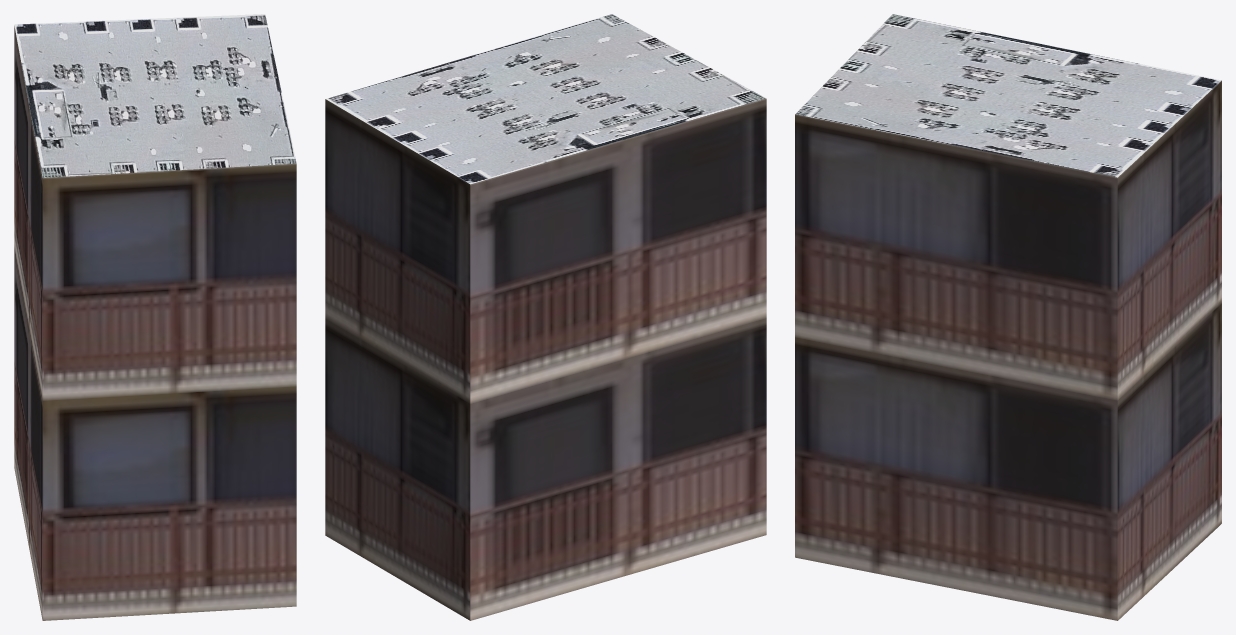
The model's file is ResTex__3484.fbx.
The picture shows the model from 3 angles, left to right: view 1: azimuth 30°, elevation 25°; view 2: azimuth 150°, elevation 25°; view 3: azimuth 270°, elevation 25°; orthographic projection.
Visible parts, largest first — view 1: CityEngineMaterial_6_m, CityEngineMaterial_m; view 2: CityEngineMaterial_6_m, CityEngineMaterial_m; view 3: CityEngineMaterial_6_m, CityEngineMaterial_m.
Boxes of the visible parts, x1,y1,x2,y2 form: CityEngineMaterial_6_m: [14, 26, 296, 620]; CityEngineMaterial_m: [14, 14, 296, 177]; CityEngineMaterial_6_m: [325, 98, 766, 620]; CityEngineMaterial_m: [326, 14, 765, 184]; CityEngineMaterial_6_m: [795, 80, 1221, 620]; CityEngineMaterial_m: [795, 14, 1221, 177].
Size of the model in its own units: 4.75 by 6 by 5.23.
Materials: 2 (2 with a texture image).
